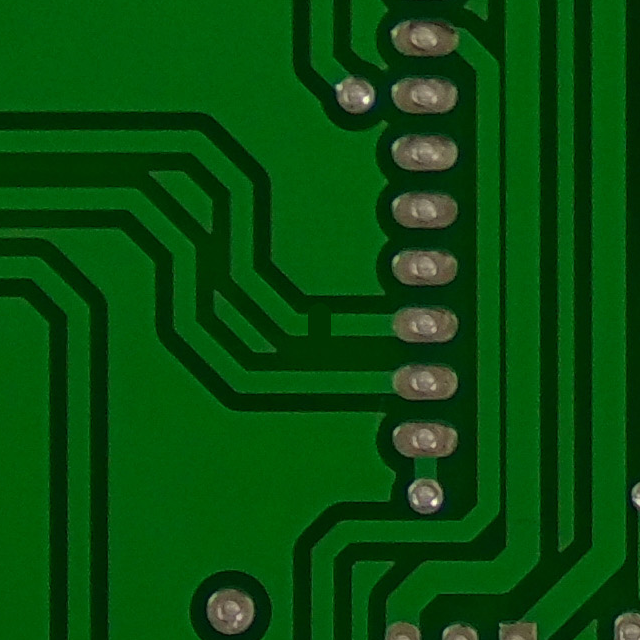open_circuit: (292, 294, 348, 346)
